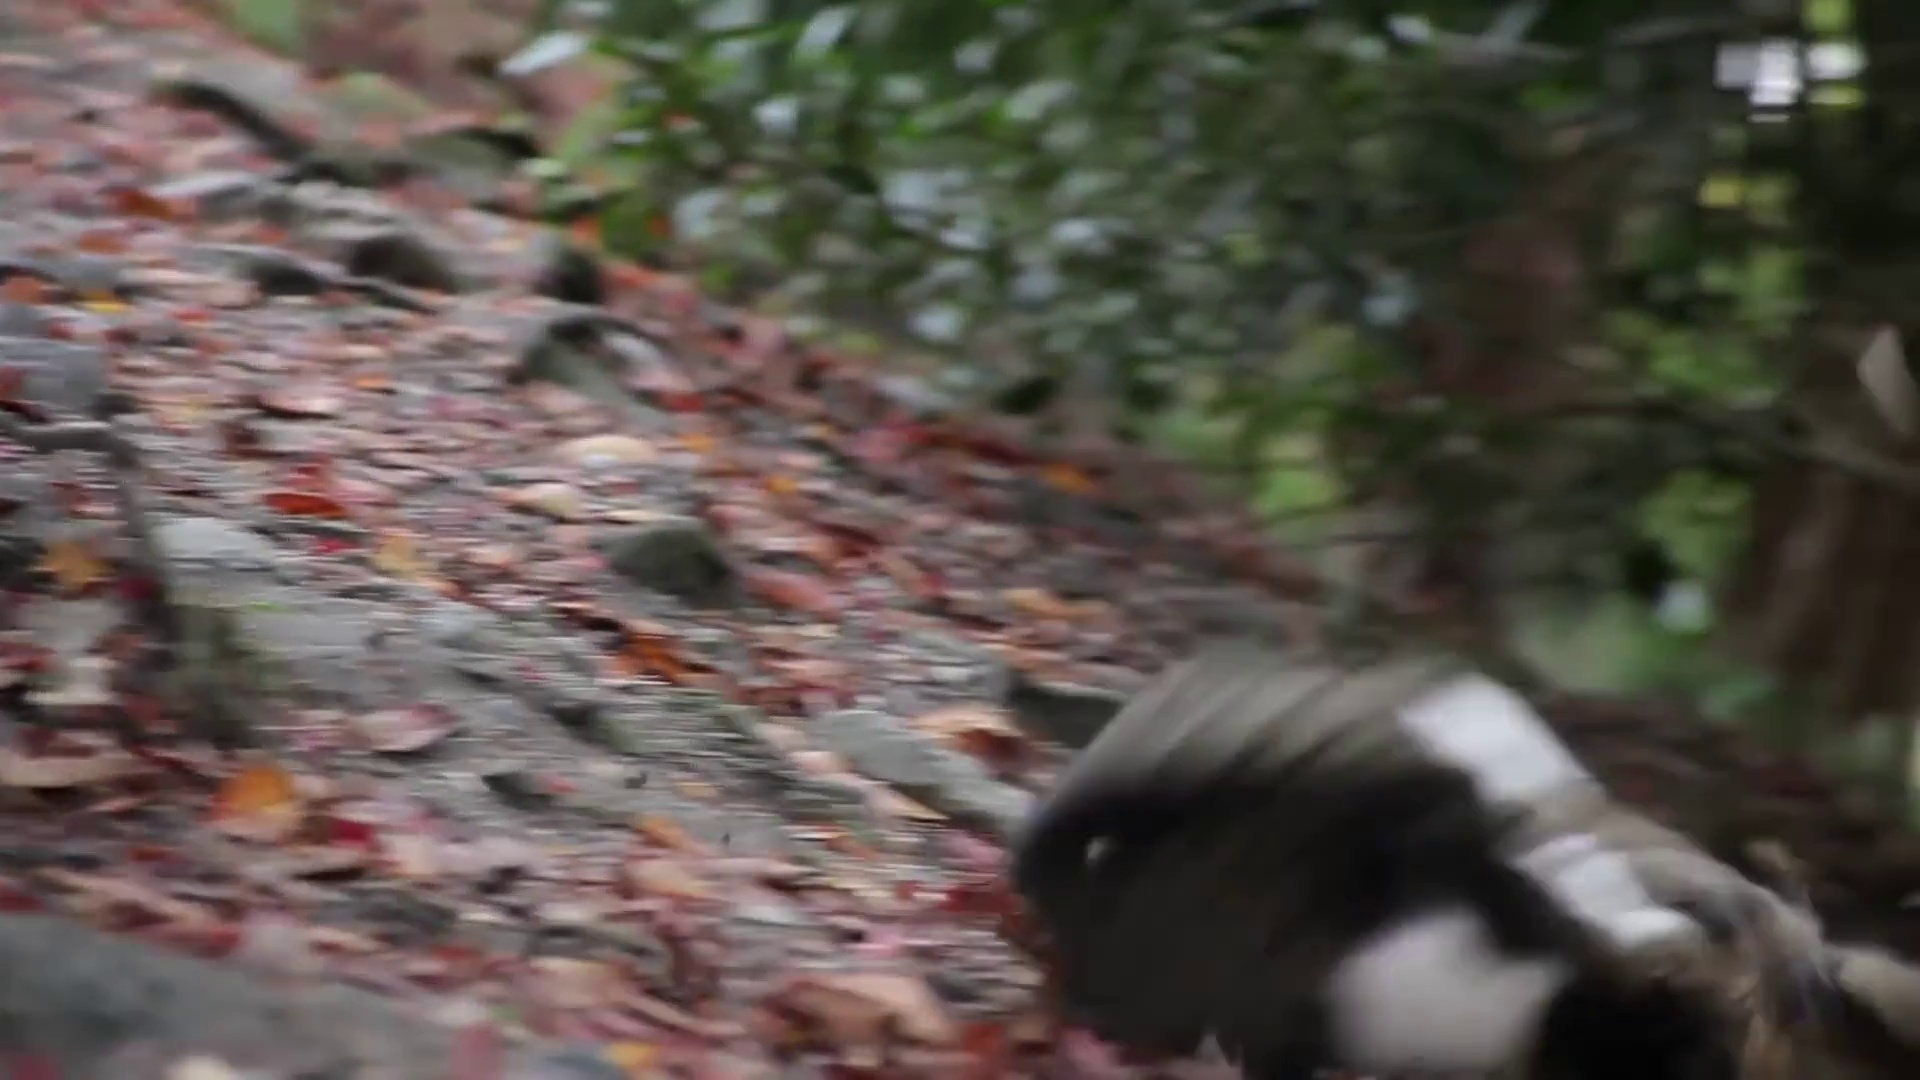black-white: (1011, 653, 1692, 1065)
pure black: (1518, 837, 1911, 1073)
